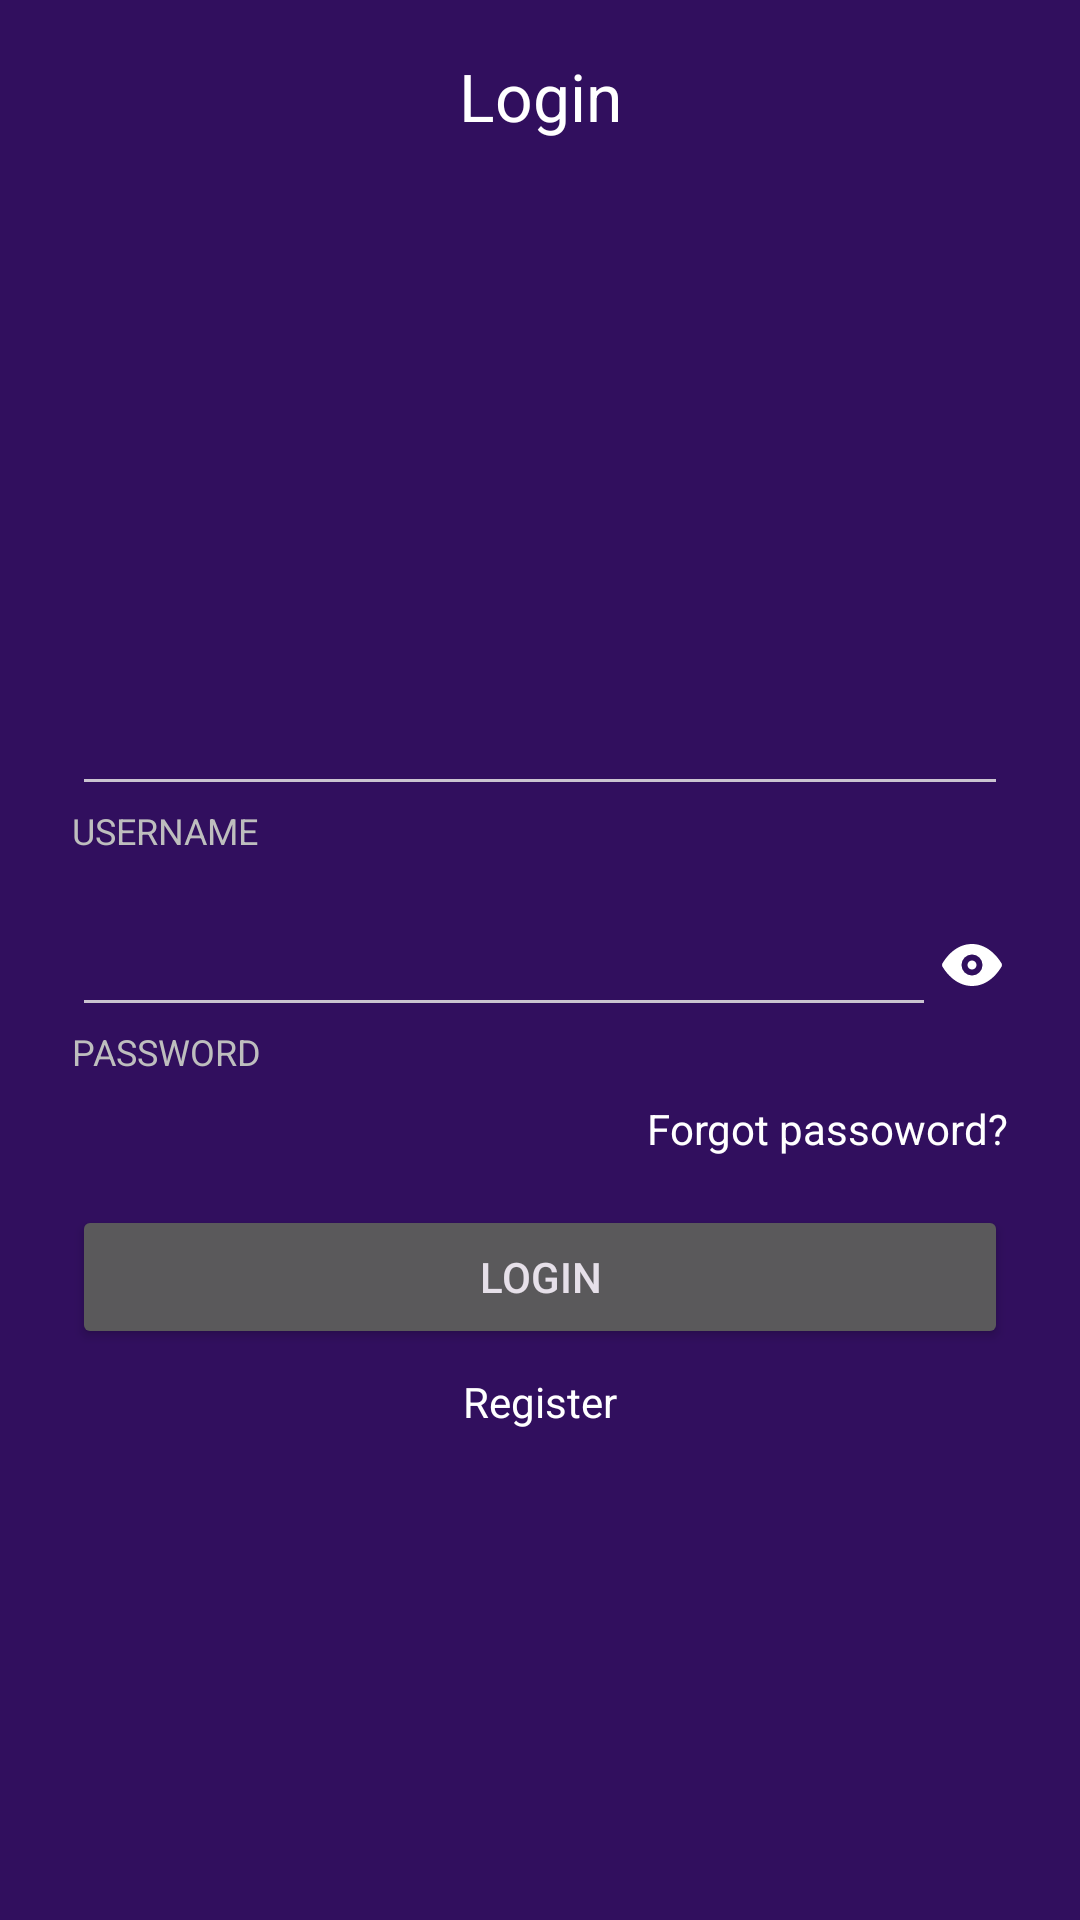

Icon bounding boxes for this 1080*1920 phone screenshot, format {"left": x1, "top": y1, "right": x2, "bottom": y2}:
eye: {"left": 942, "top": 944, "right": 1002, "bottom": 986}
